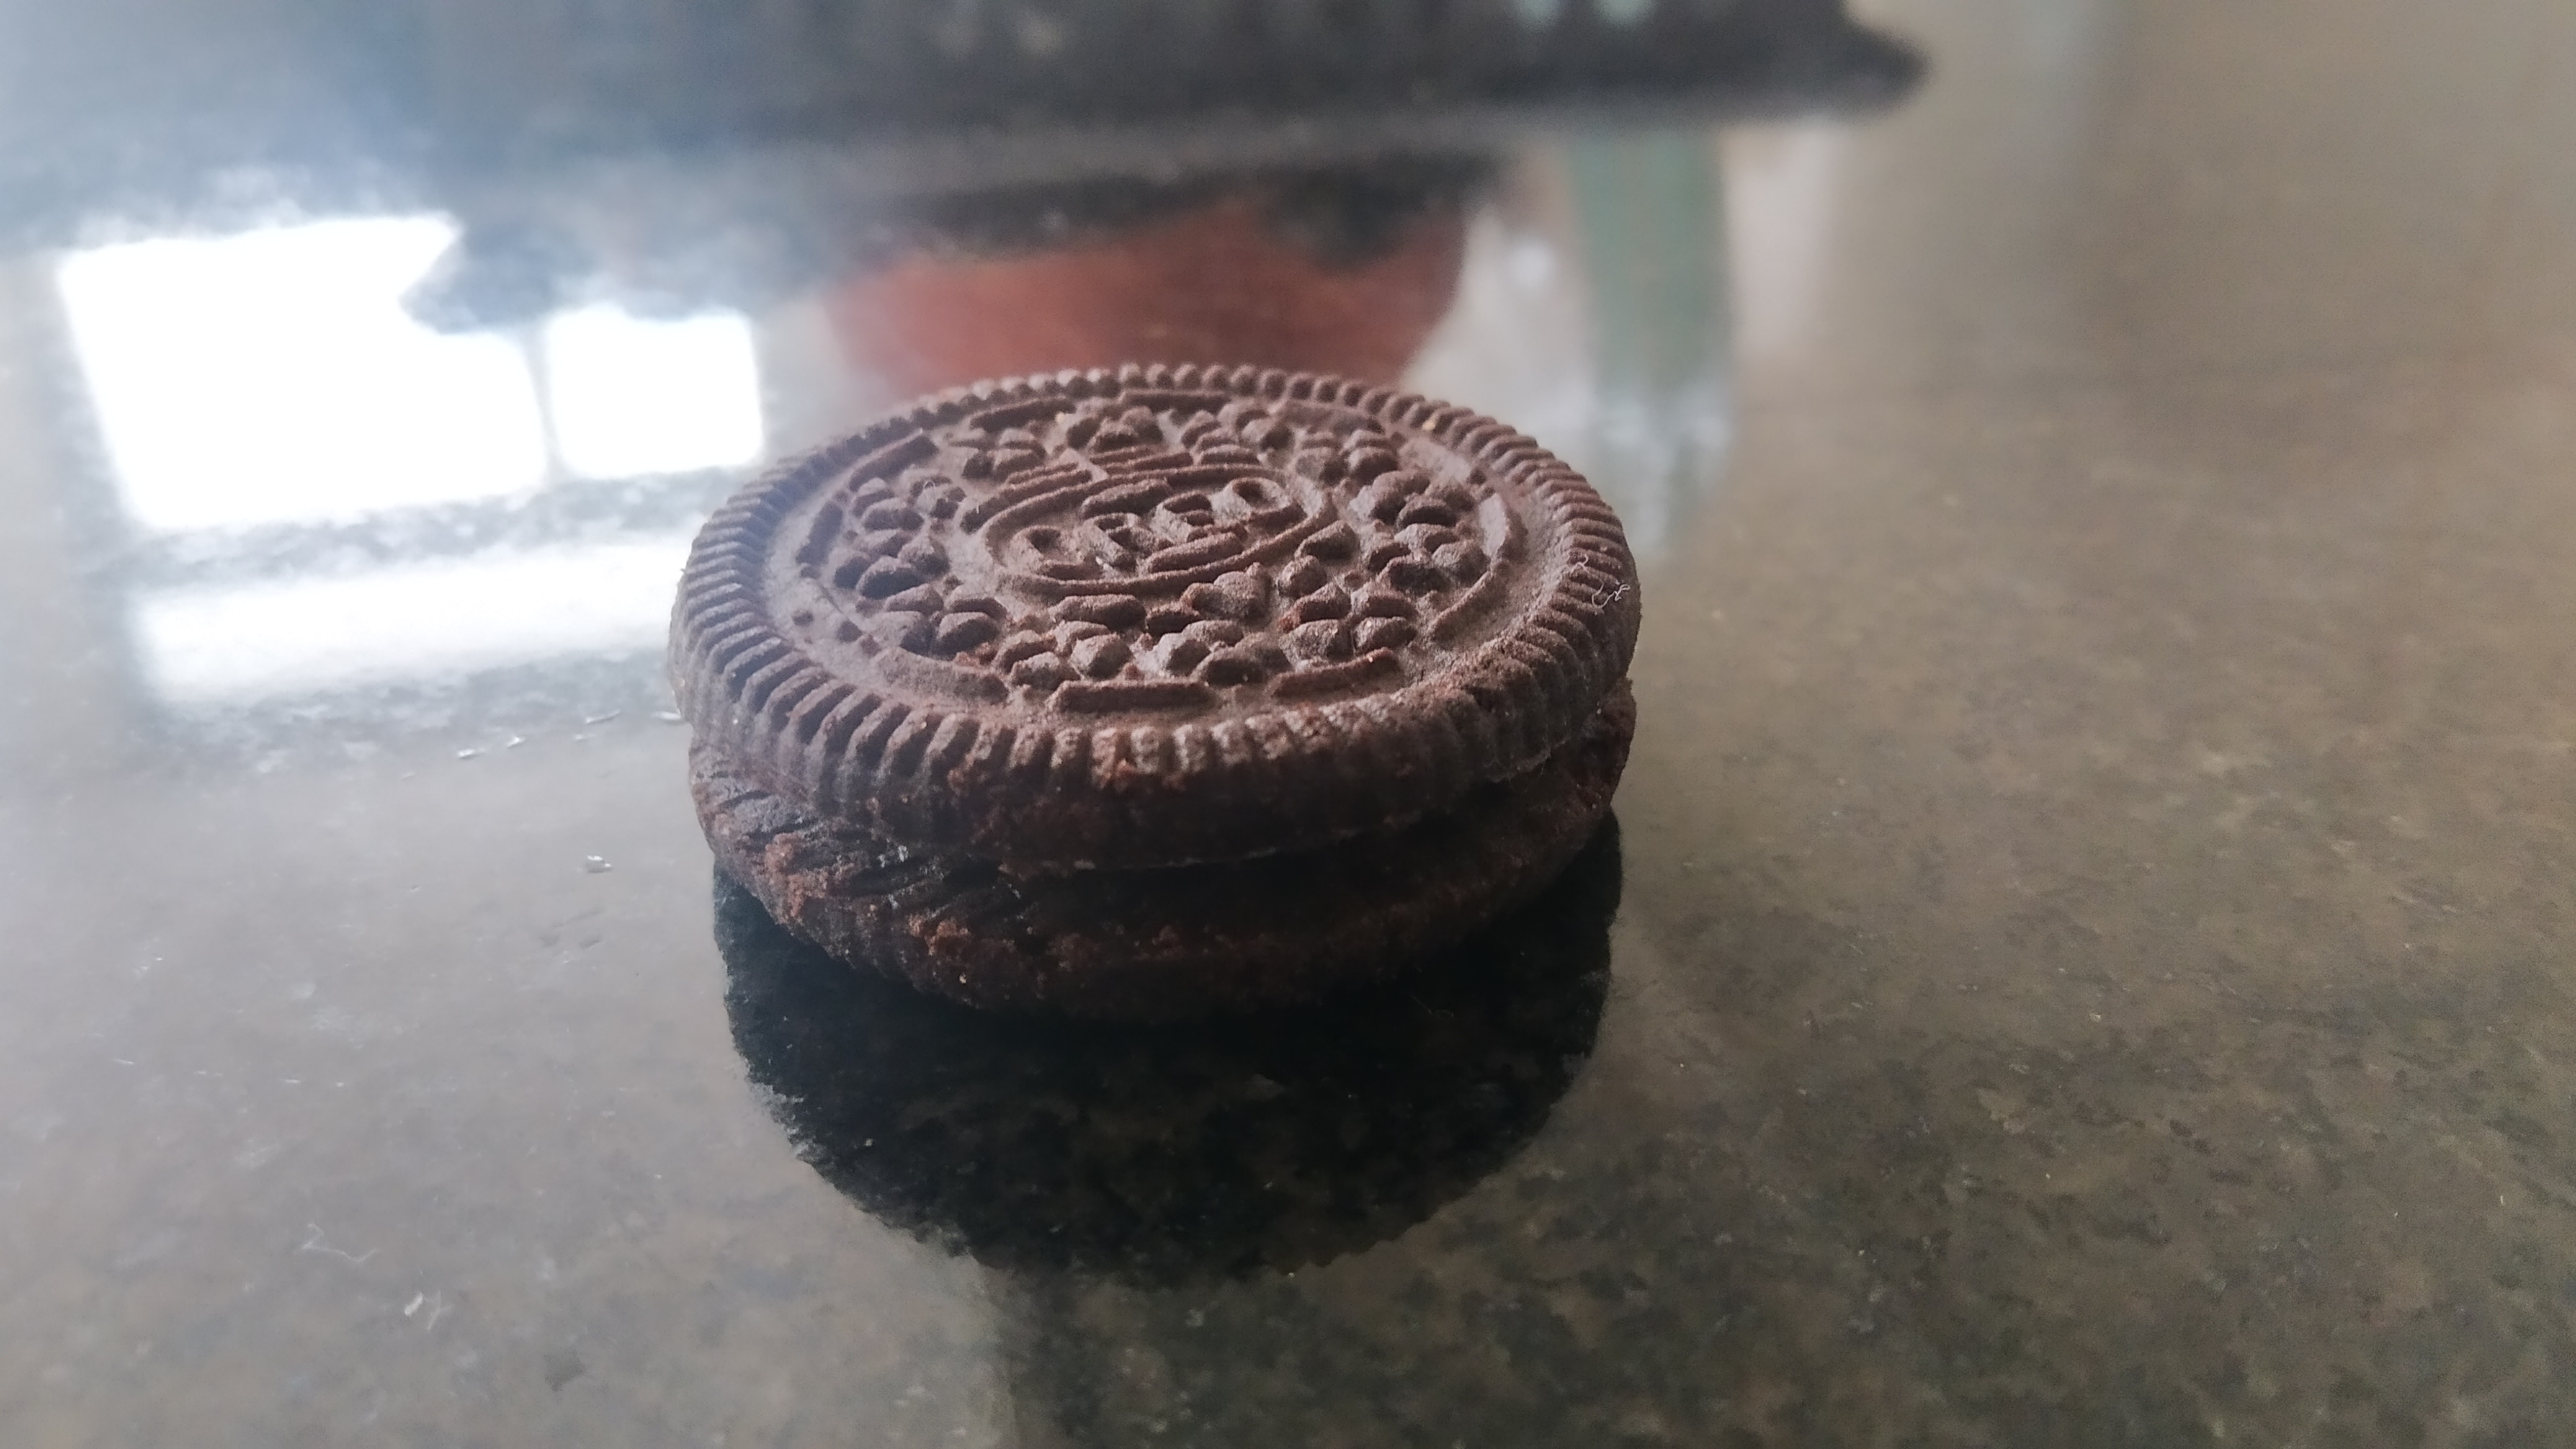oreo: (667, 363, 1642, 1023)
